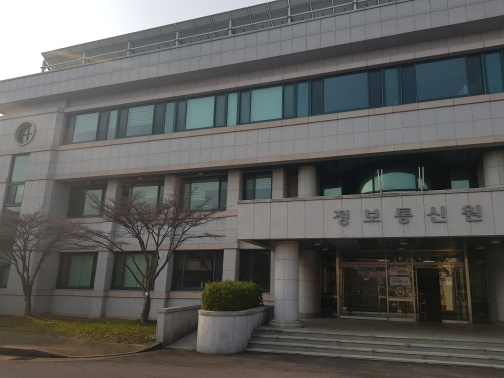Information Telecommunication Center: (14, 34, 495, 341), (270, 147, 497, 344), (299, 250, 494, 331), (305, 199, 492, 236)
